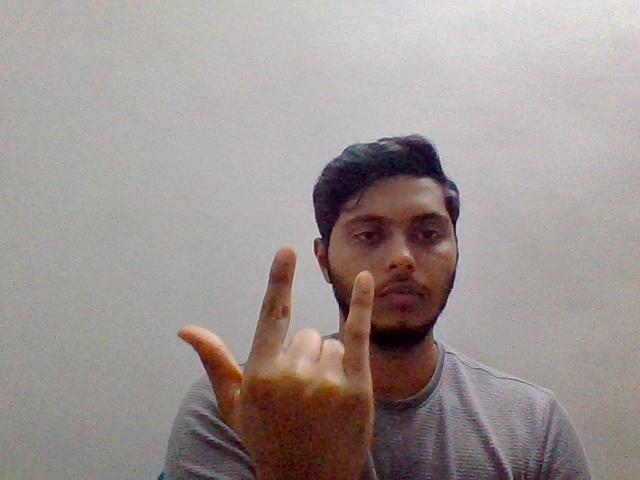I Love You: (172, 241, 386, 480)
